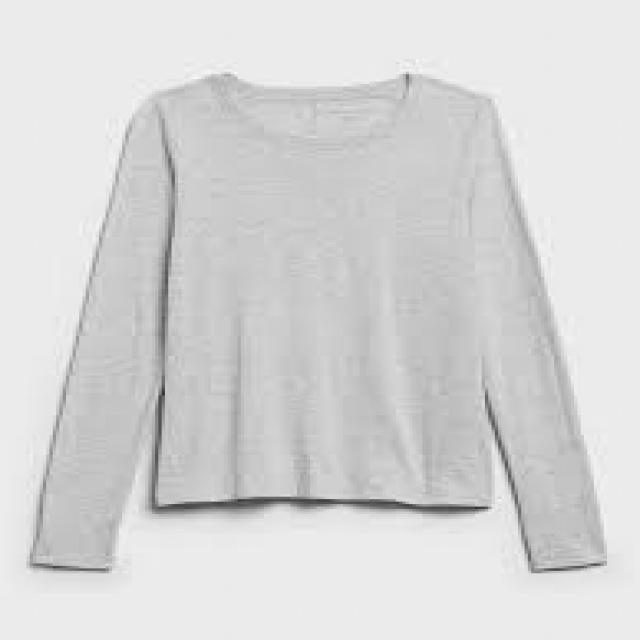plain: (21, 77, 612, 590)
